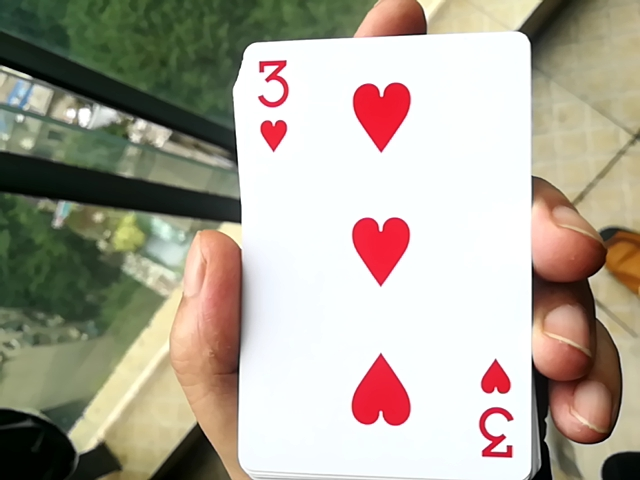hx 3: (220, 43, 548, 480)
